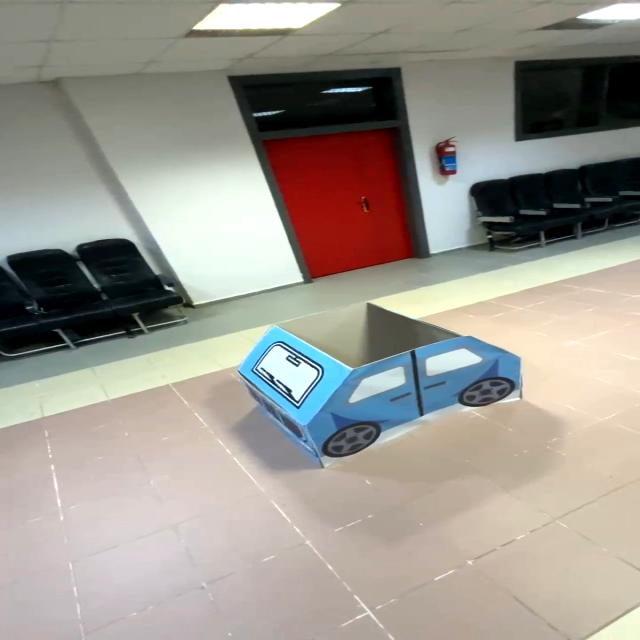blue_car: (196, 294, 558, 476)
